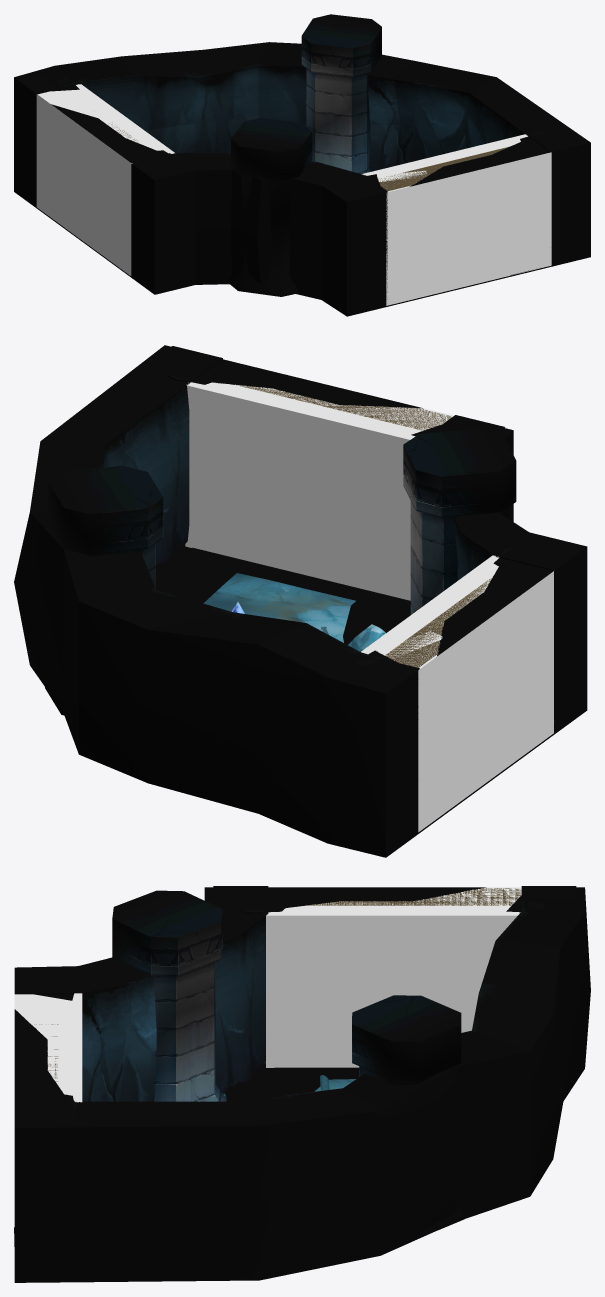
Rendered from Dungeon_033_RoadL_002.fbx.
3 renders of one model, top to bottom at view 1: azimuth 30°, elevation 25°; view 2: azimuth 150°, elevation 25°; view 3: azimuth 270°, elevation 25°, orthographic. The views are drawn at different scales.
Visible parts, largest first — view 1: Dan1, DoorWay_NavMask (1) (×2), Dungeon_033_Pillar_001, Dungeon_033_Pillar_001 (2), Dun_011_Door_002_old (×2), Dun_011_Door_002 (×2), Dun_011_Door_003_WarpRoom; view 2: Dan1, DoorWay_NavMask (1) (×2), Dungeon_033_Pillar_001 (2), Dun_011_Door_002_old (×2), Dungeon_033_Pillar_001, Dan2, Dan1_shadow, Dun_011_Door_003_WarpRoom (×2), Dun_011_Door_002_shadow, Dun_011_Door_002 (×2); view 3: Dan1, DoorWay_NavMask (1) (×2), Dungeon_033_Pillar_001 (2), Dun_011_Door_002_old (×2), Dungeon_033_Pillar_001, Dan1_shadow, Dun_011_Door_003_WarpRoom, Dun_011_Door_002 (×2), Dun_011_Door_002_shadow.
Part boxes in pixels (x1=…): Dan1: x1=14, y1=42, x2=590, y2=316; DoorWay_NavMask (1) (×2): x1=36, y1=84, x2=551, y2=305; Dungeon_033_Pillar_001: x1=301, y1=14, x2=381, y2=173; Dungeon_033_Pillar_001 (2): x1=228, y1=117, x2=312, y2=296; Dun_011_Door_002_old (×2): x1=17, y1=73, x2=584, y2=199; Dun_011_Door_002 (×2): x1=37, y1=81, x2=583, y2=306; Dun_011_Door_003_WarpRoom: x1=378, y1=146, x2=509, y2=191; Dan1: x1=14, y1=345, x2=587, y2=857; DoorWay_NavMask (1) (×2): x1=185, y1=382, x2=553, y2=832; Dungeon_033_Pillar_001 (2): x1=403, y1=428, x2=516, y2=614; Dun_011_Door_002_old (×2): x1=141, y1=346, x2=582, y2=689; Dungeon_033_Pillar_001: x1=45, y1=465, x2=163, y2=715; Dan2: x1=203, y1=573, x2=355, y2=642; Dan1_shadow: x1=155, y1=544, x2=410, y2=644; Dun_011_Door_003_WarpRoom (×2): x1=236, y1=385, x2=491, y2=667; Dun_011_Door_002_shadow: x1=192, y1=547, x2=410, y2=605; Dun_011_Door_002 (×2): x1=143, y1=346, x2=579, y2=832; Dan1: x1=14, y1=887, x2=590, y2=1282; DoorWay_NavMask (1) (×2): x1=14, y1=887, x2=521, y2=1102; Dungeon_033_Pillar_001 (2): x1=112, y1=890, x2=226, y2=1101; Dun_011_Door_002_old (×2): x1=14, y1=886, x2=576, y2=1123; Dungeon_033_Pillar_001: x1=352, y1=995, x2=464, y2=1237; Dan1_shadow: x1=14, y1=1062, x2=320, y2=1246; Dun_011_Door_003_WarpRoom: x1=307, y1=888, x2=521, y2=905; Dun_011_Door_002 (×2): x1=14, y1=886, x2=550, y2=1123; Dun_011_Door_002_shadow: x1=274, y1=1067, x2=359, y2=1080.
Size of what is drawn, in the model's own units: 6.75 by 2.56 by 6.83.
